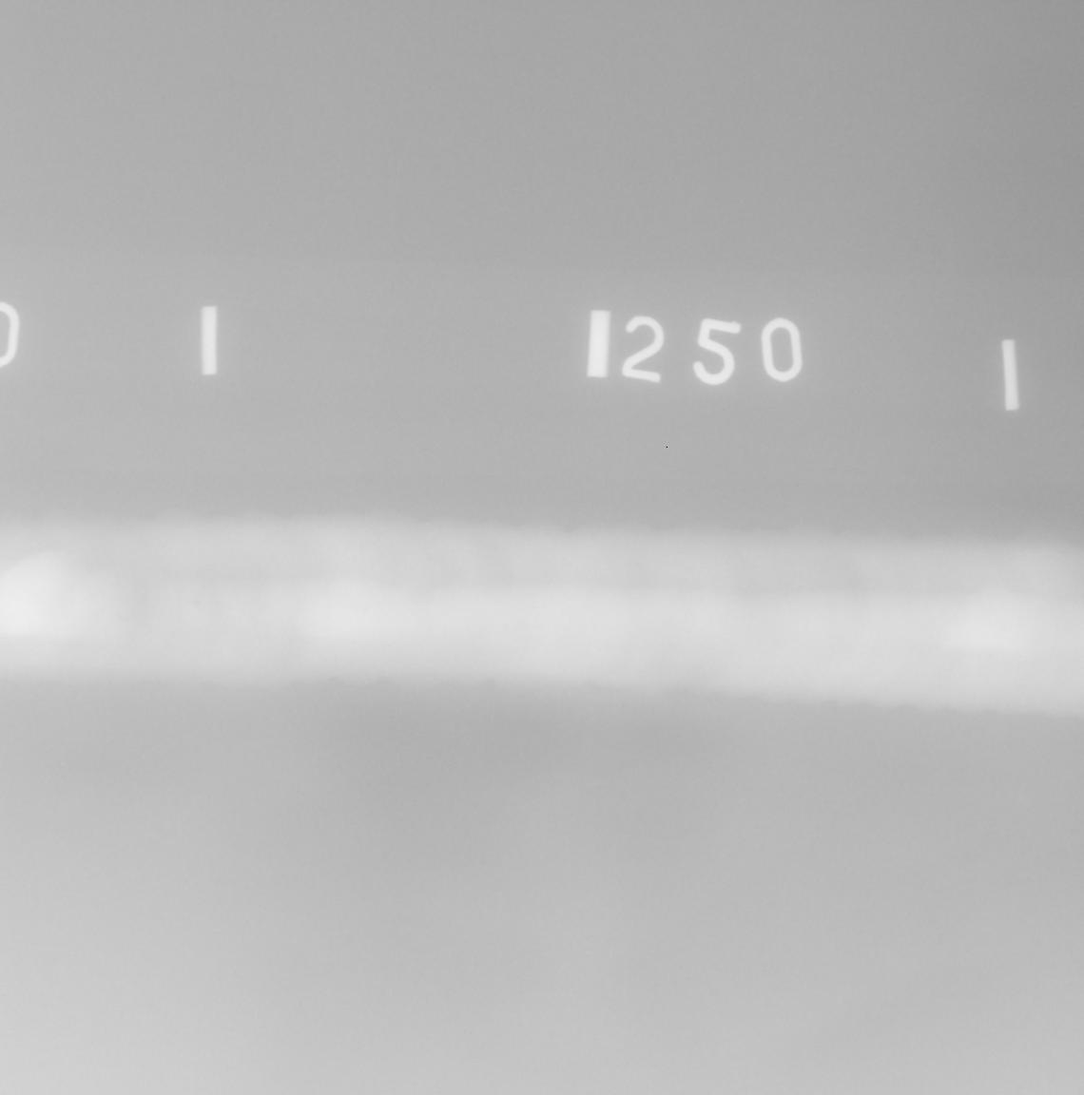Inclusion: (116, 616, 129, 623), (362, 609, 368, 611), (355, 607, 358, 610)
Pore/Porosity: (193, 601, 199, 606), (501, 624, 507, 628)
